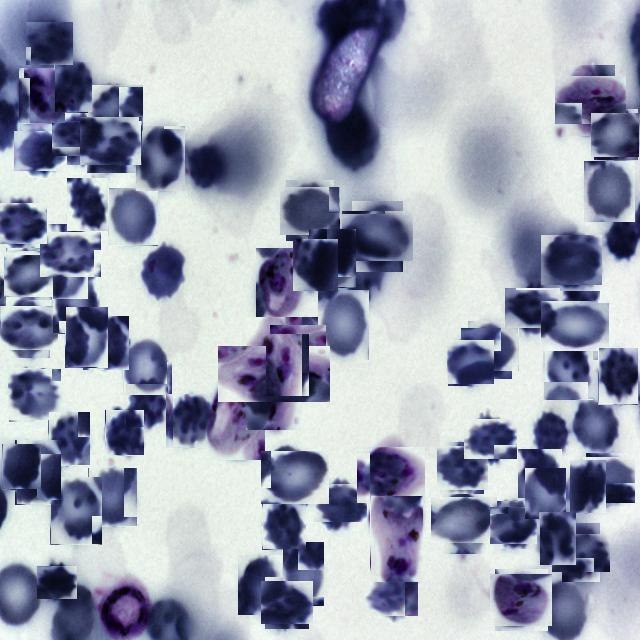red blood cell: (347, 206, 408, 267), (265, 448, 325, 508), (318, 290, 369, 360), (50, 477, 102, 545), (546, 296, 604, 355), (136, 126, 186, 192), (84, 114, 140, 170), (543, 232, 599, 288), (584, 161, 635, 222), (437, 492, 492, 548), (282, 183, 338, 238), (16, 440, 62, 505), (52, 273, 100, 334), (571, 397, 622, 454), (108, 188, 158, 246), (88, 468, 137, 527), (44, 228, 98, 281), (544, 343, 594, 400), (308, 229, 356, 288), (8, 368, 61, 421), (123, 338, 172, 395), (2, 302, 54, 354), (89, 82, 141, 134), (282, 542, 324, 606), (266, 334, 309, 396), (464, 324, 516, 375), (238, 555, 282, 615), (65, 307, 108, 368), (140, 243, 186, 300), (166, 393, 212, 448), (83, 316, 129, 370), (584, 455, 634, 504), (4, 250, 54, 298), (293, 239, 338, 291), (508, 284, 556, 332), (438, 444, 486, 492), (557, 528, 605, 576), (274, 321, 322, 369), (263, 579, 311, 627), (598, 348, 638, 405), (48, 412, 90, 466), (466, 415, 514, 462), (592, 111, 640, 158), (531, 409, 571, 465), (368, 573, 415, 620), (16, 128, 64, 174), (67, 177, 108, 230), (518, 449, 562, 498), (526, 468, 568, 519), (317, 480, 363, 526), (447, 339, 493, 385), (27, 20, 73, 66), (262, 502, 306, 550), (0, 200, 44, 247), (54, 62, 92, 113), (56, 117, 100, 161), (570, 460, 606, 513), (540, 512, 576, 565), (126, 384, 168, 427), (105, 410, 144, 456), (2, 444, 41, 490), (492, 504, 534, 546), (188, 146, 224, 189), (38, 564, 76, 601)
schizont: (360, 444, 422, 506)
trophozoite: (232, 332, 316, 416), (206, 380, 265, 460), (370, 496, 423, 583), (256, 248, 305, 324), (560, 70, 620, 130), (492, 571, 550, 629), (18, 68, 65, 124)
